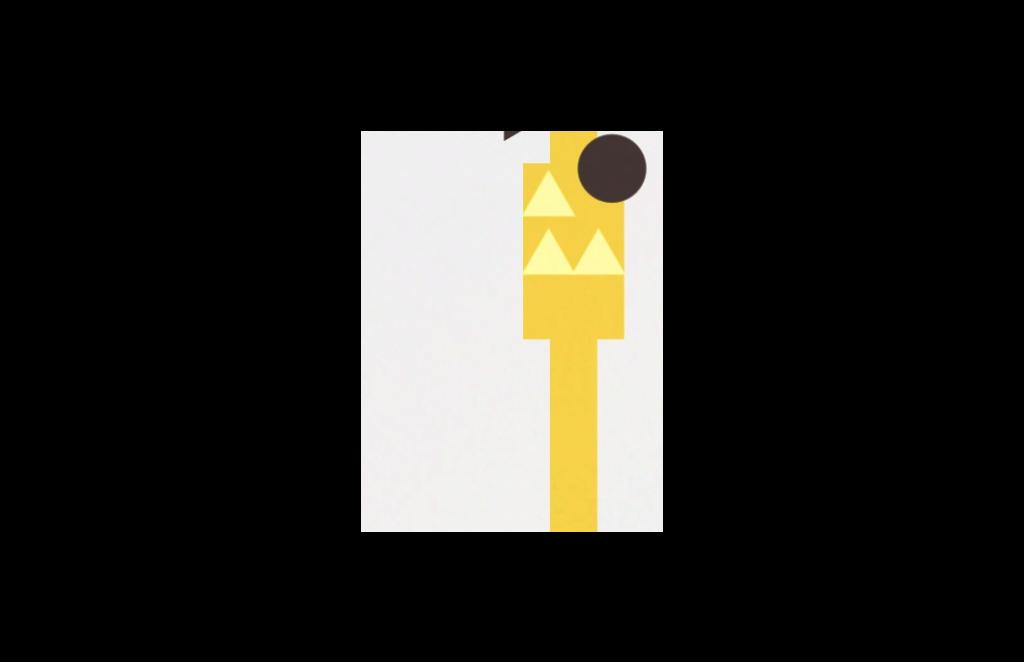connected_station: (480, 130, 663, 152)
train: (506, 148, 655, 356)
